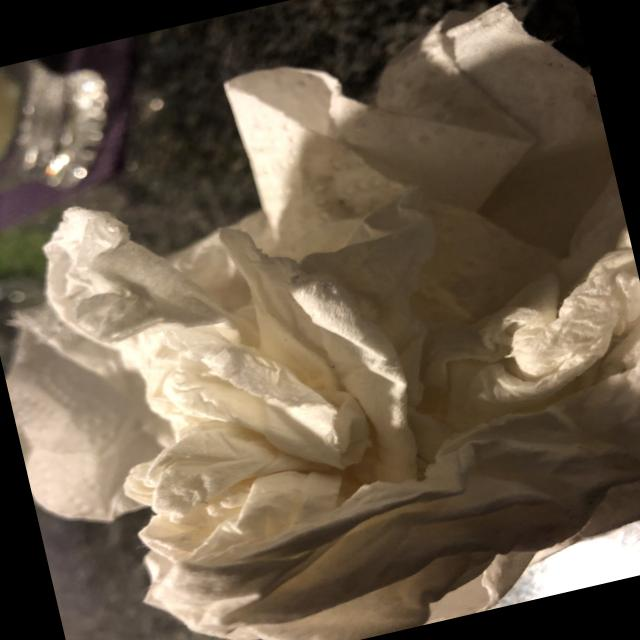organic waste: (21, 79, 640, 640), (205, 0, 640, 533), (0, 206, 323, 542)
